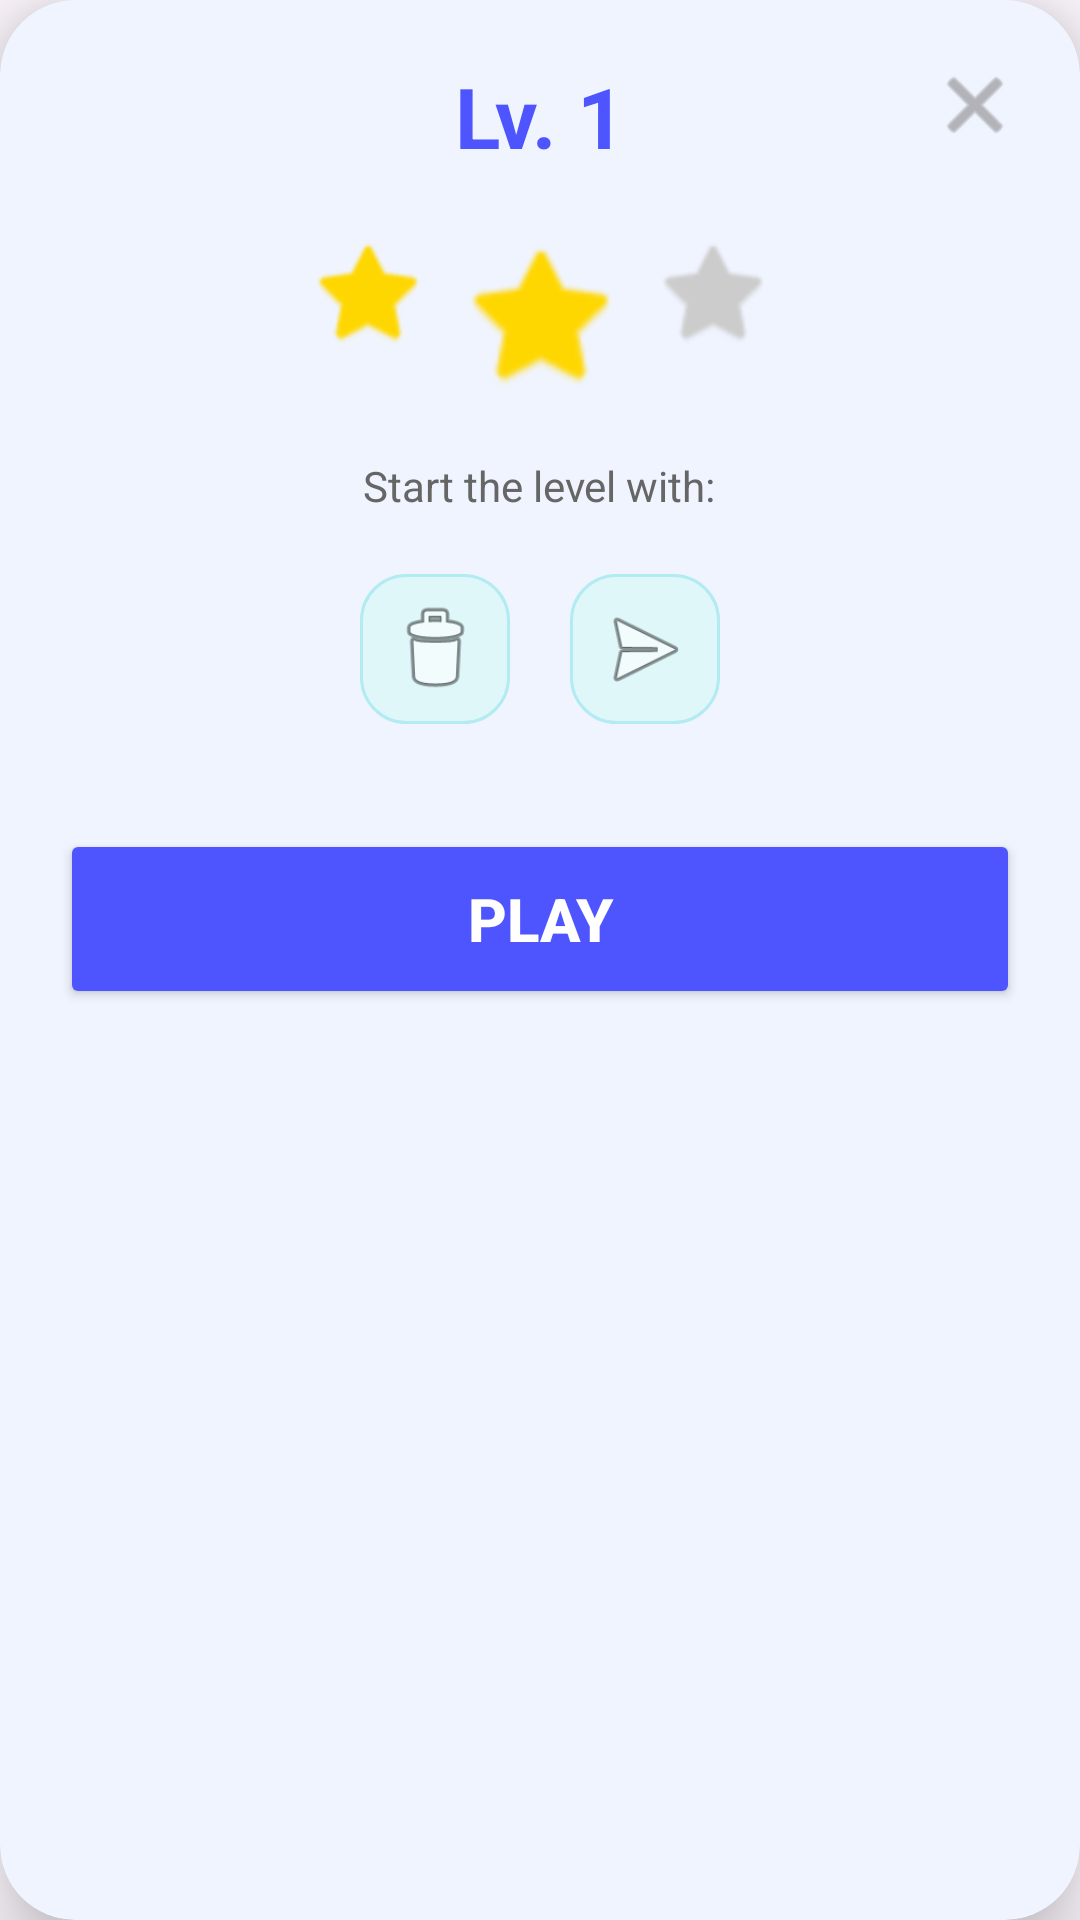

Where icons sit on this 1080w x 1920h app screen, as [x1=x1, y1=y1, x2=x2, y2=y2]:
close clear cancel: [x1=947, y1=77, x2=1003, y2=133]
delete: [x1=360, y1=574, x2=510, y2=724]
send: [x1=570, y1=574, x2=720, y2=724]
